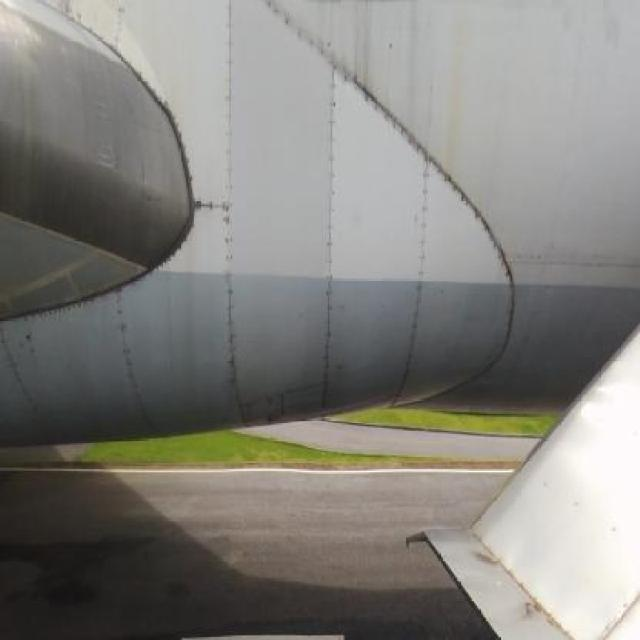Missing-Rivet: (458, 185, 530, 392), (213, 19, 249, 426), (314, 34, 346, 426), (403, 142, 442, 400), (111, 273, 163, 441), (348, 61, 426, 156), (263, 1, 314, 70)
Rust: (440, 18, 471, 188)
